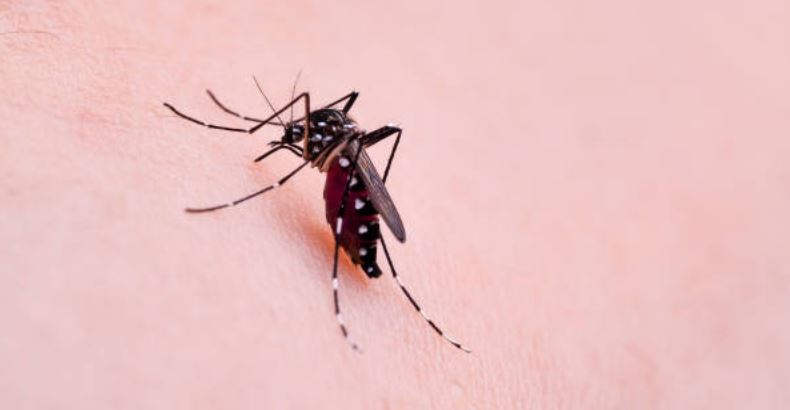dengue_mosquito: (164, 69, 471, 353)
